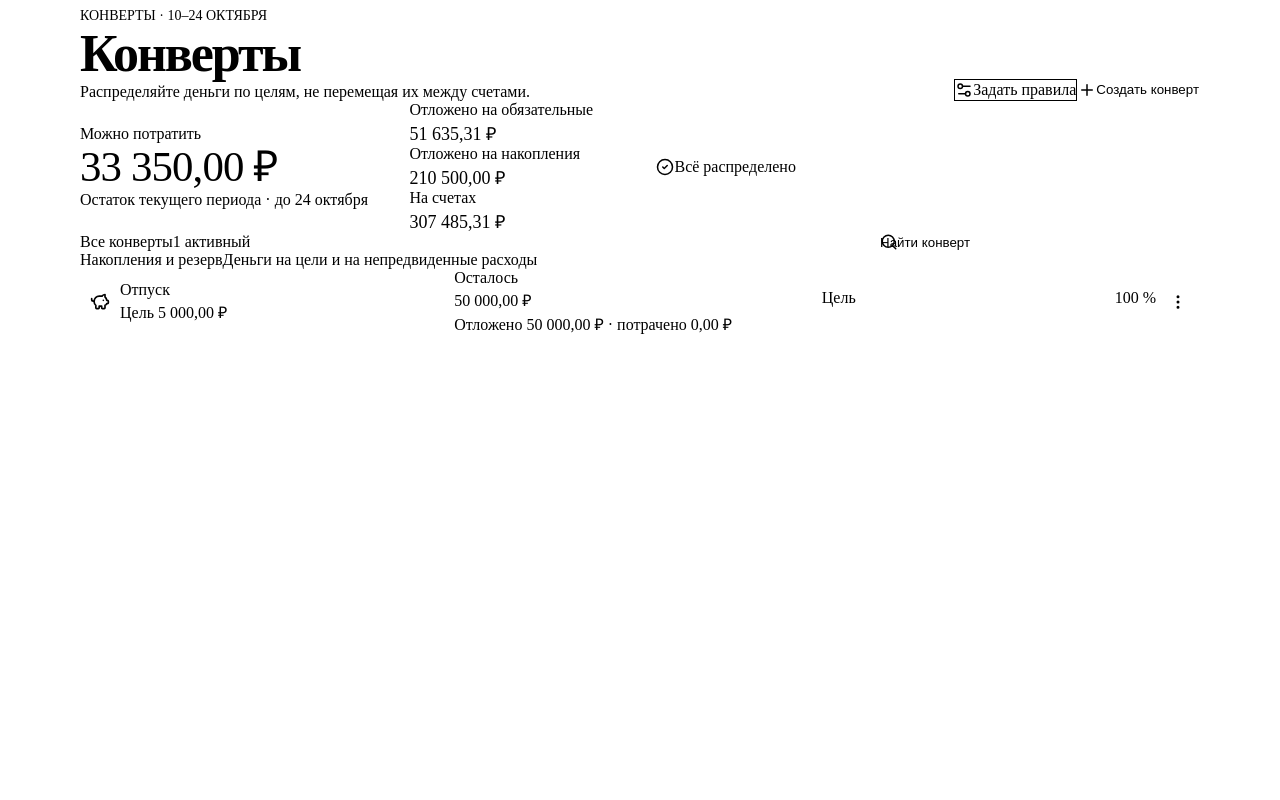
Test case: envelopes page, plan model v2 › shows the envelope goal in rubles from the decimal server value
The image size is (1280, 800).
Click the button with test id "list-row-select" at point(145, 290), box left=80, top=269, right=1156, bottom=335
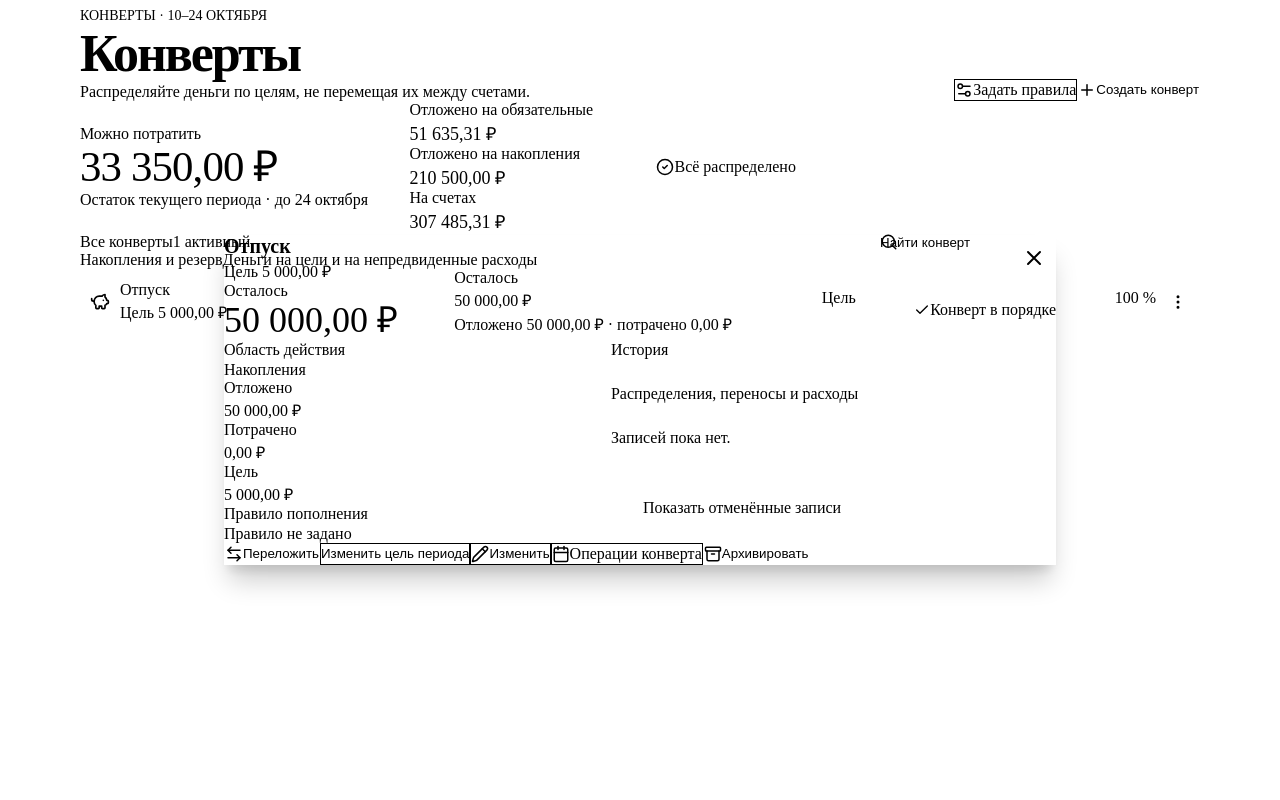
Expected: the element with test id "modal" does not show "50,00"
Expected: the dialog with test id "modal" shows "5 000,00", left=224, top=263, right=331, bottom=280
